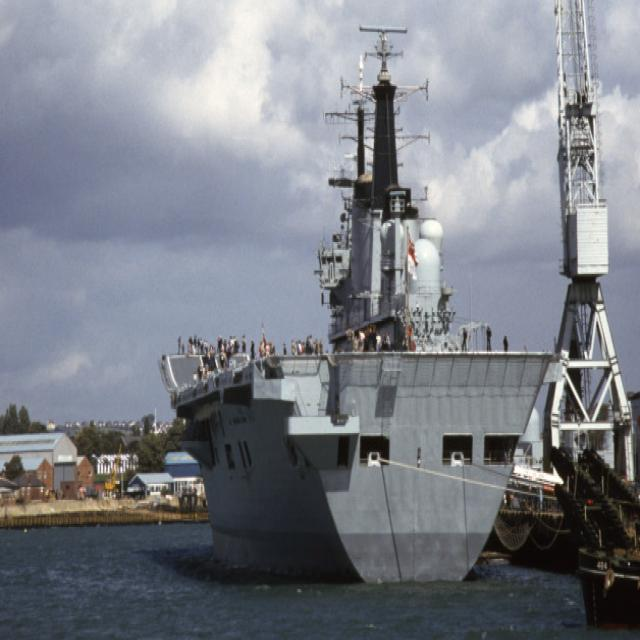Portanaves: (158, 6, 566, 596)
